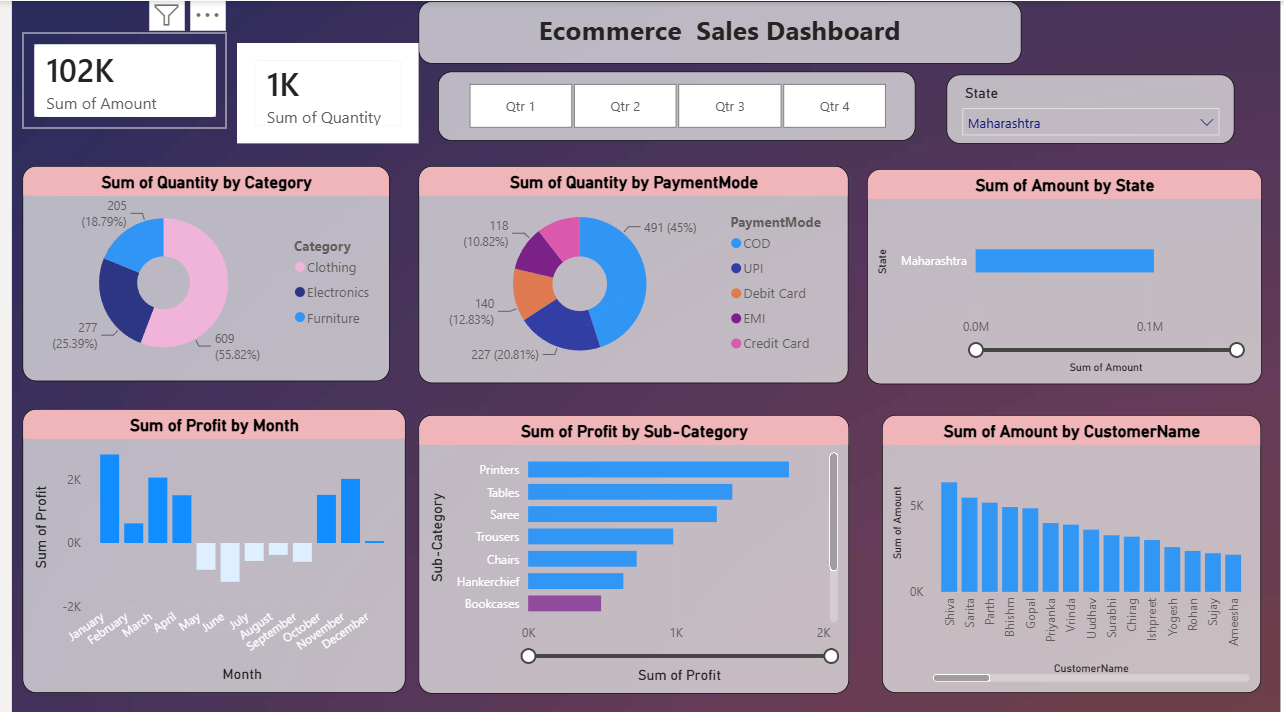

What the dashboard file says about the page in this screenshot:
{"tool":"powerbi","page":{"name":"Page 1","canvas":[1280,720],"ordinal":0},"visuals":[{"type":"textbox","box":[410.3,0,608.7,63.6],"z":0},{"type":"columnChart","fields":{"Category":["Orders (2).Order Date.Variation.Date Hierarchy.Month"],"Y":["Sum(Details (2).Profit)"]},"box":[10,412.3,386.4,286.8],"z":1000},{"type":"barChart","fields":{"Category":["Details (2).Sub-Category"],"Y":["Sum(Details (2).Profit)"]},"box":[410.1,417.6,434.6,281.6],"z":2000},{"type":"donutChart","fields":{"Category":["Details (2).Category"],"Y":["Sum(Details (2).Quantity)"]},"box":[10,167.3,370.5,217.1],"z":3000},{"type":"donutChart","fields":{"Category":["Details (2).PaymentMode"],"Y":["Sum(Details (2).Quantity)"]},"box":[410.3,167.3,434.2,219.1],"z":4000},{"type":"cardVisual","fields":{"Data":["Sum(Details (2).Amount)"]},"box":[10,31.9,207.1,97.6],"z":5000},{"type":"cardVisual","fields":{"Data":["Sum(Details (2).Quantity)"]},"box":[227.1,41.8,183.2,101.6],"z":6000},{"type":"barChart","fields":{"Category":["Orders (2).State"],"Y":["Sum(Details (2).Amount)"]},"box":[862.4,169.3,398.3,217.1],"z":7000},{"type":"columnChart","fields":{"Category":["Orders (2).CustomerName"],"Y":["Sum(Details (2).Amount)"]},"box":[878.4,418.3,382.4,280.8],"z":8000},{"type":"slicer","fields":{"Values":["Orders (2).Order Date.Variation.Date Hierarchy.Quarter"]},"box":[430.2,71.7,482,69.7],"z":9000},{"type":"slicer","fields":{"Values":["Orders (2).State"]},"box":[944.1,73.7,290.8,69.7],"z":10000}]}

Visuals, with their boxes in screenshot pixels (x1, y1, x2, y2), scaled from the page's 1280x720 canvas onto the 1284x712 screenshot:
textbox: detection(412, 0, 1022, 63)
columnChart - Orders (2).Order Date.Variation.Date Hierarchy.Month x Sum(Details (2).Profit): detection(10, 408, 398, 691)
barChart - Details (2).Sub-Category x Sum(Details (2).Profit): detection(411, 413, 847, 691)
donutChart - Details (2).Category x Sum(Details (2).Quantity): detection(10, 165, 382, 380)
donutChart - Details (2).PaymentMode x Sum(Details (2).Quantity): detection(412, 165, 847, 382)
cardVisual - Sum(Details (2).Amount): detection(10, 32, 218, 128)
cardVisual - Sum(Details (2).Quantity): detection(228, 41, 412, 142)
barChart - Orders (2).State x Sum(Details (2).Amount): detection(865, 167, 1265, 382)
columnChart - Orders (2).CustomerName x Sum(Details (2).Amount): detection(881, 414, 1265, 691)
slicer - Orders (2).Order Date.Variation.Date Hierarchy.Quarter: detection(432, 71, 915, 140)
slicer - Orders (2).State: detection(947, 73, 1239, 142)
